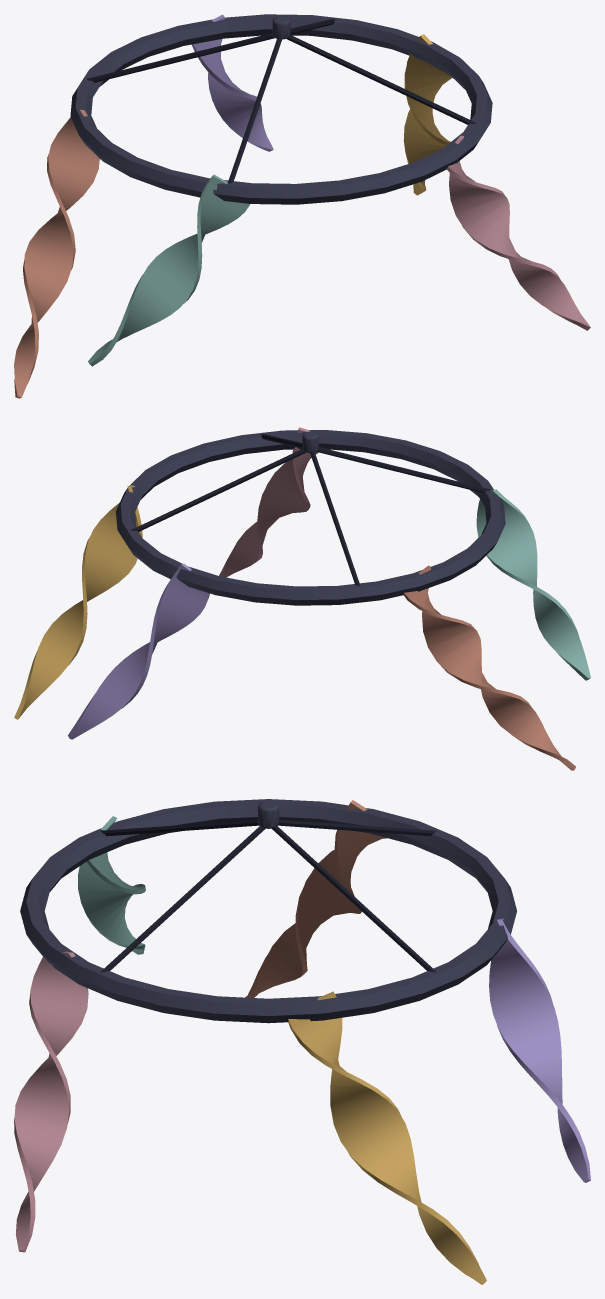
The model's file is prop_hub_mobile.glb.
3 renders of one model, top to bottom at view 1: azimuth 30°, elevation 25°; view 2: azimuth 150°, elevation 25°; view 3: azimuth 270°, elevation 25°, orthographic. The views are drawn at different scales.
Visible parts, largest first — view 1: HubMobileMesh; view 2: HubMobileMesh; view 3: HubMobileMesh.
Part boxes in pixels (x1,y1,x2,y2): HubMobileMesh: [14, 14, 590, 398]; HubMobileMesh: [14, 427, 590, 770]; HubMobileMesh: [14, 799, 590, 1284].
Size of the model in its own units: 3.63 by 2.09 by 3.05.
